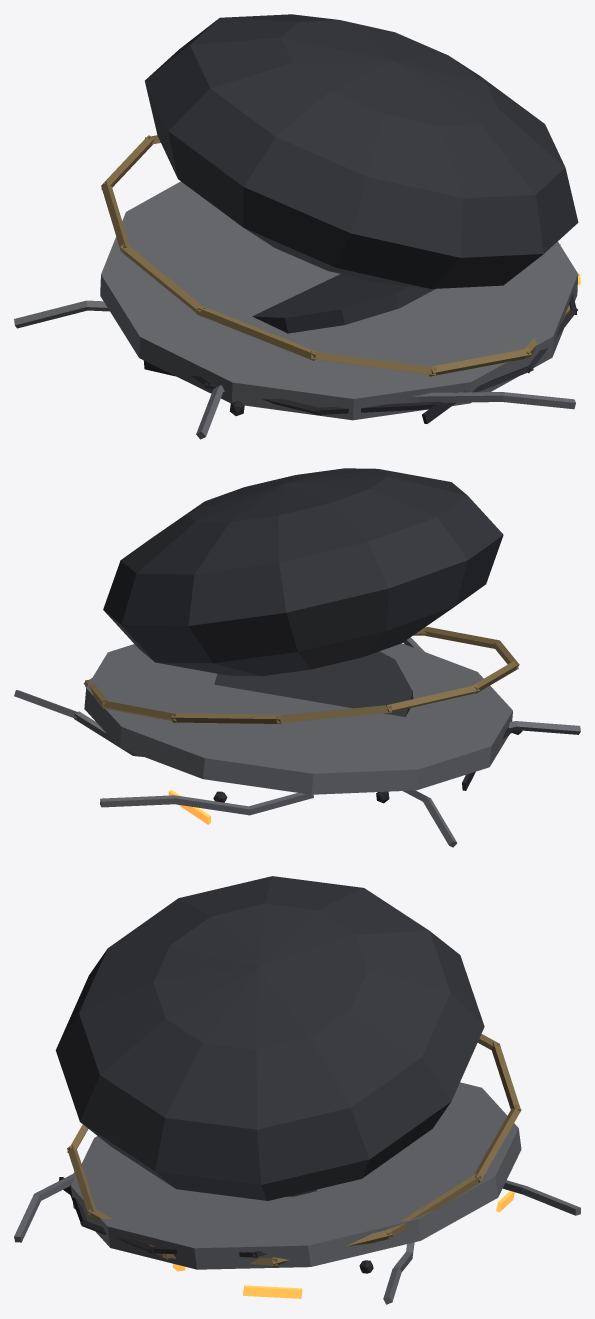
File: Wreck_Aegis_Tribunal.fbx
3 renders of one model, top to bottom at view 1: azimuth 30°, elevation 25°; view 2: azimuth 150°, elevation 25°; view 3: azimuth 270°, elevation 25°, orthographic. The views are drawn at different scales.
Visible parts, largest first — view 1: Wreck_Aegis_Tribunal; view 2: Wreck_Aegis_Tribunal; view 3: Wreck_Aegis_Tribunal.
Boxes of the visible parts, x1,y1,x2,y2 form: Wreck_Aegis_Tribunal: [14, 14, 580, 439]; Wreck_Aegis_Tribunal: [14, 468, 580, 847]; Wreck_Aegis_Tribunal: [14, 876, 580, 1304].
Bounding box in the file's own units: 2.87 × 1.55 × 2.89.
